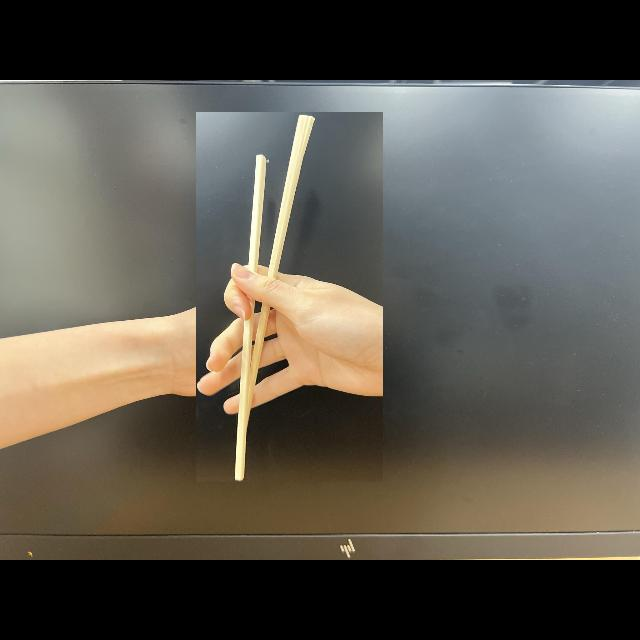stick: (196, 112, 382, 482)
